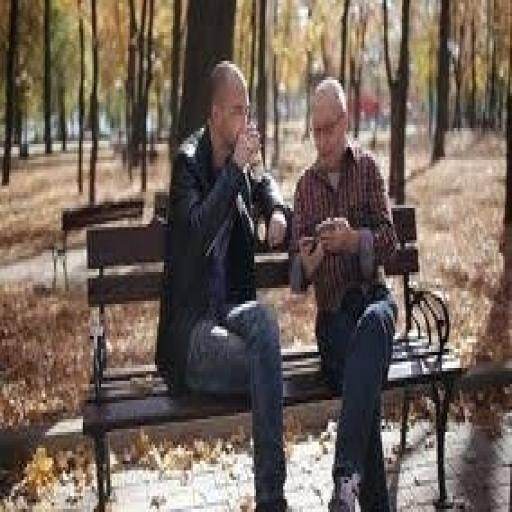sitting: (155, 54, 402, 506), (287, 74, 400, 508)
